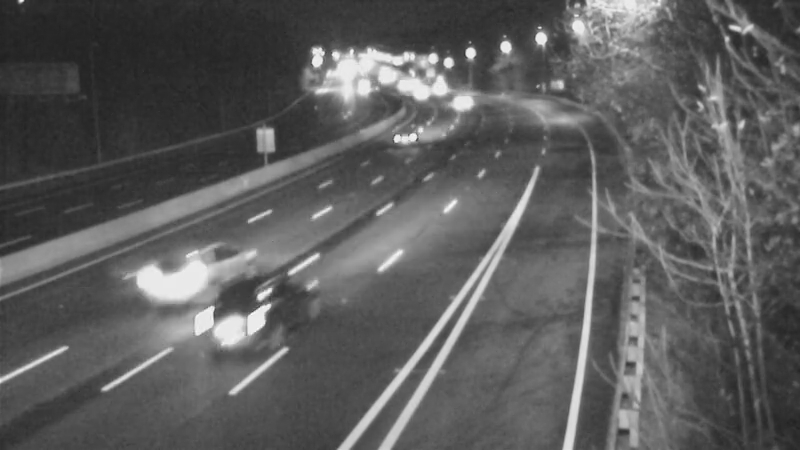vehicle: (180, 273, 290, 383), (136, 242, 216, 322), (412, 62, 462, 112), (392, 68, 442, 118), (441, 79, 491, 129), (380, 113, 430, 163)
